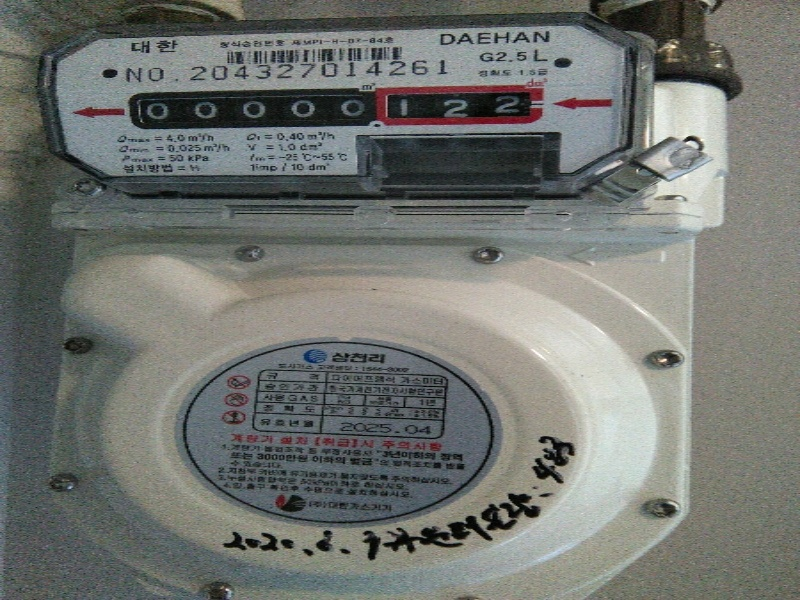meter: (36, 10, 650, 189)
